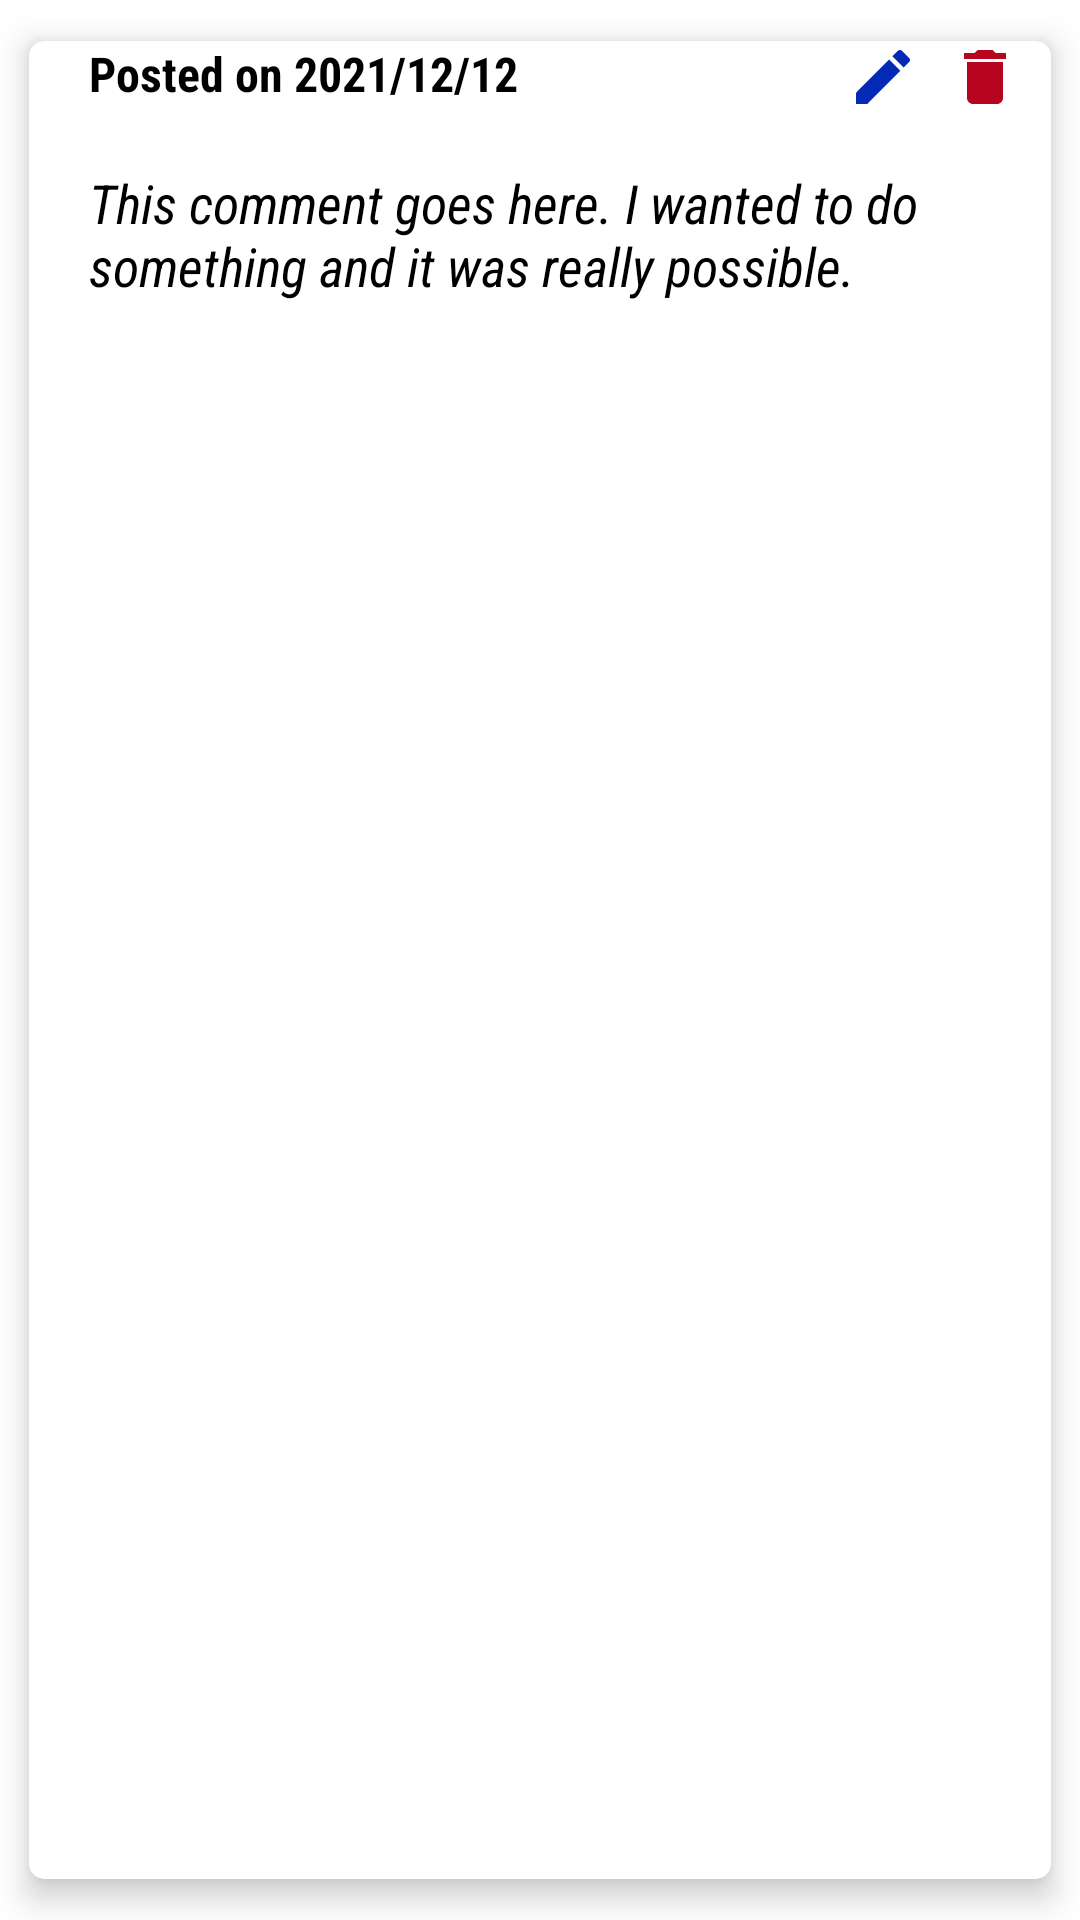

Locate icon controls on the screen. Image size 1080px×1920px, boxes as (x1, y1, x2, y2).
delete: (964, 50, 1006, 104)
edit: (856, 50, 910, 104)
